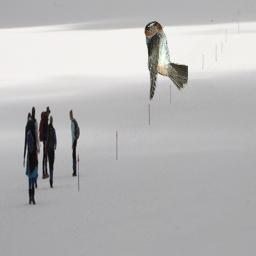Swallow: (144, 21, 188, 101)
